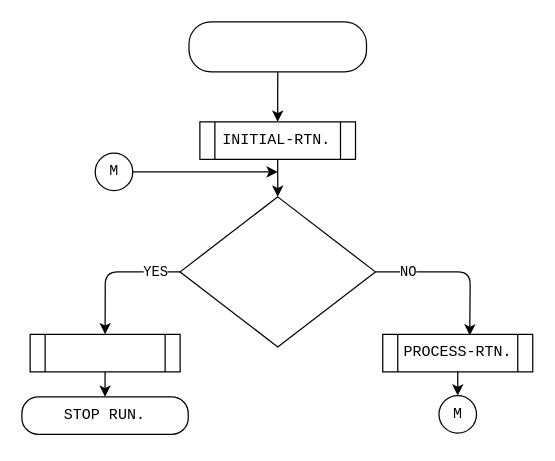
The diagram is 555 pixels wide and 461 high, and some of its shapes have lost their labels. The box of each missing label's shape, as (x1, y1, x2, y2) in pixels:
FINISH-RTN.: (29, 333, 180, 372)
IF EOFSW = 'YES': (179, 196, 375, 347)
MAIN-RTN.: (188, 21, 366, 72)
